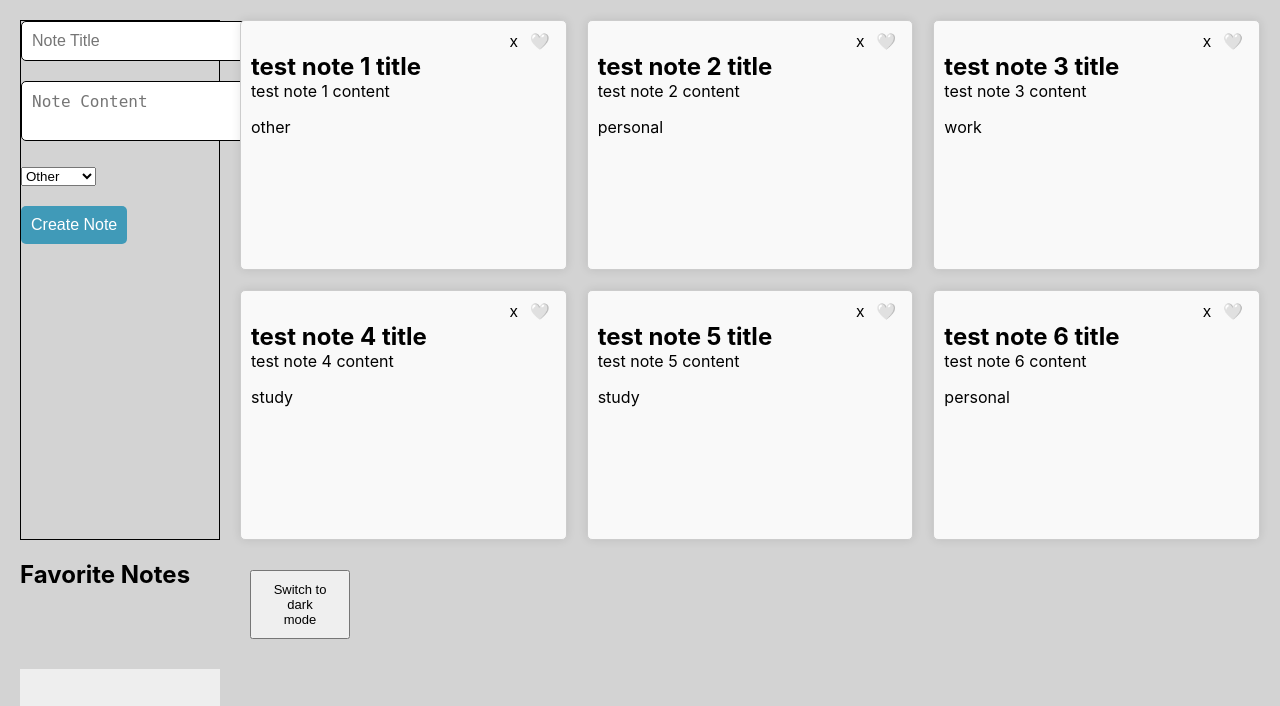
Test: Create StickyNote › deletes a note
The width and height of the screenshot is (1280, 706).
Type "Want to delete" into the field with placeholder "Note Title" at {"x": 136, "y": 41}, box x1=21 y1=21 x2=250 y2=61
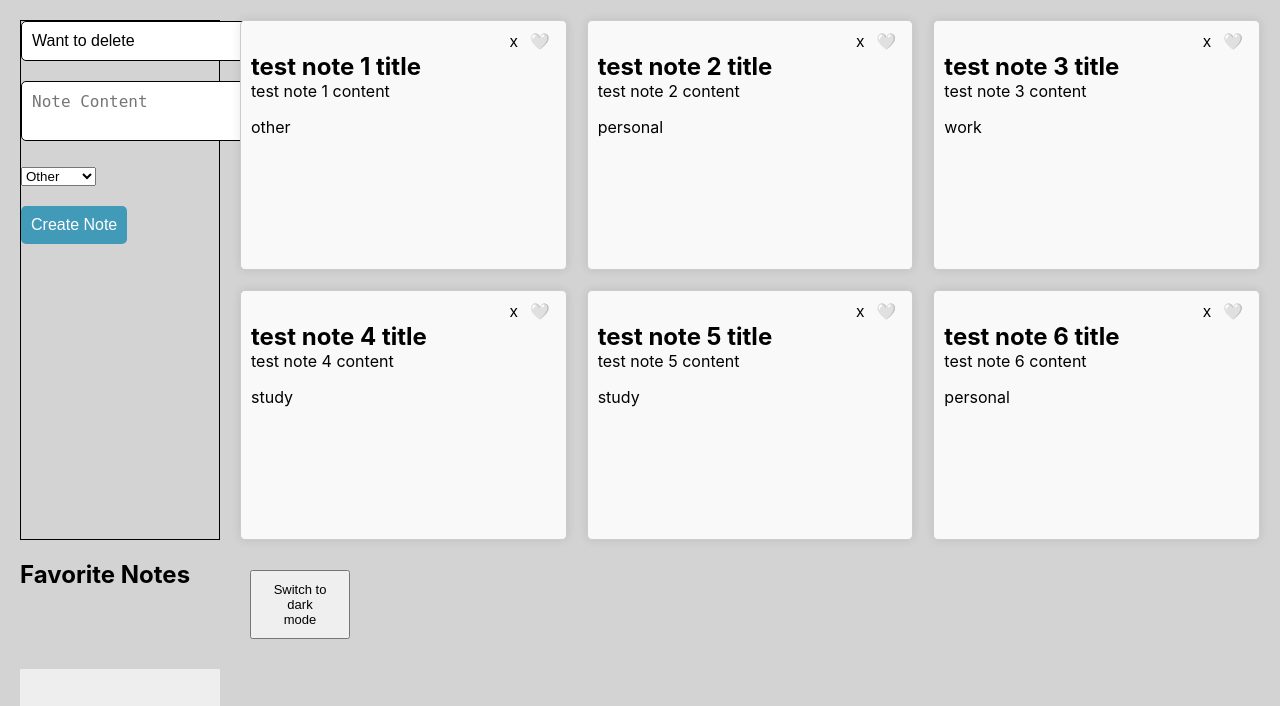
Type "Note is deleted" into the text box with placeholder "Note Content" at {"x": 140, "y": 111}, box x1=21 y1=81 x2=258 y2=141
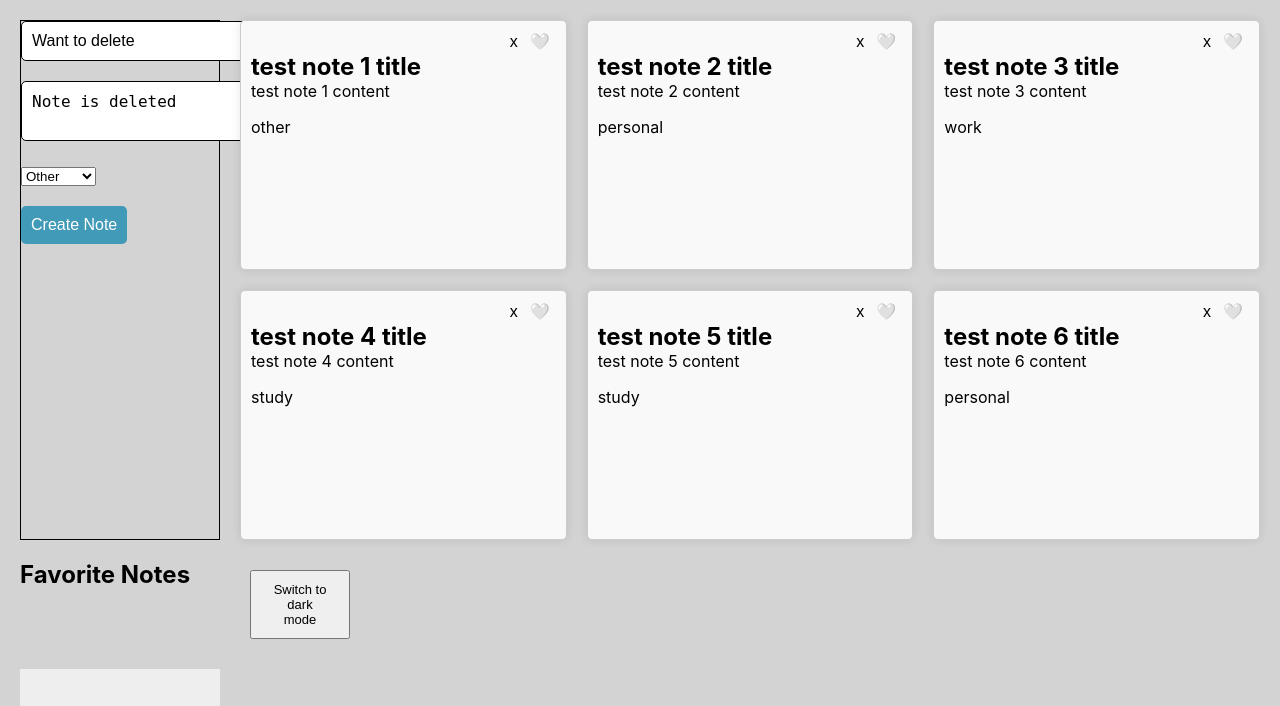
Click the button "Create Note" at {"x": 74, "y": 225}, box x1=21 y1=206 x2=127 y2=244
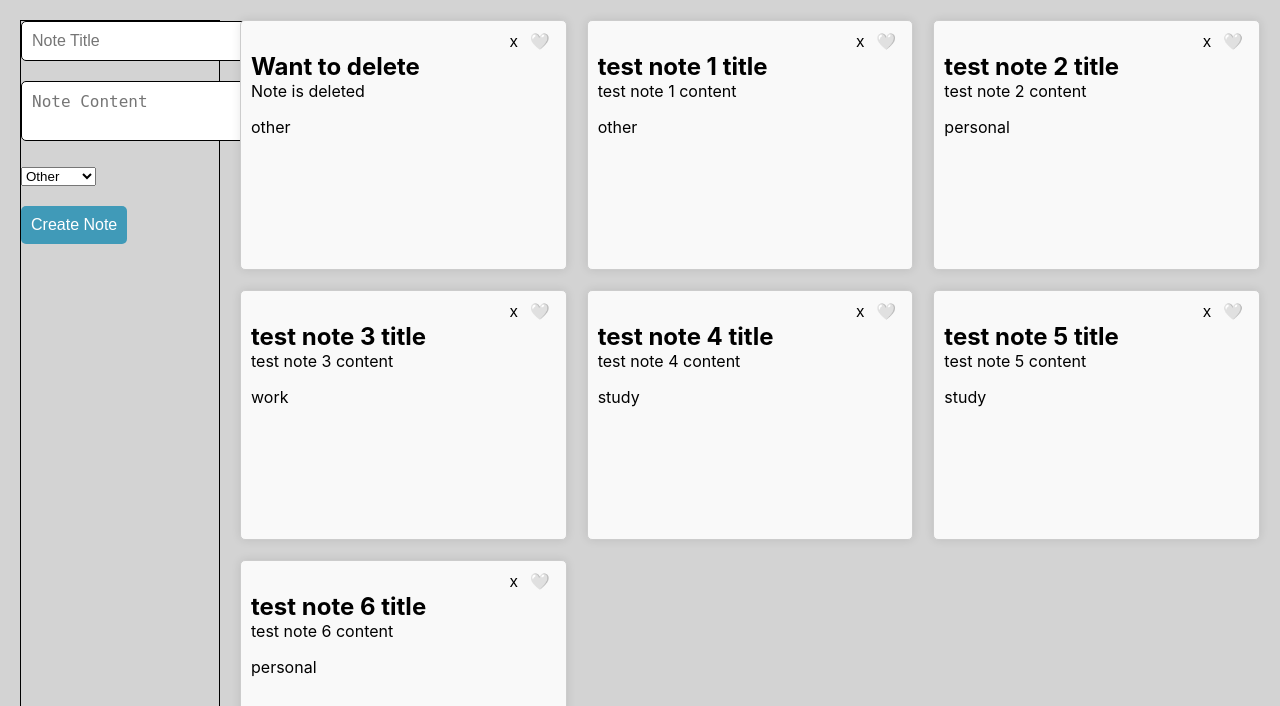
Check: the heading "Want to delete" is shown, box x1=251 y1=52 x2=420 y2=81
Click the button with test id "delete-note-7" at {"x": 514, "y": 42}, box x1=504 y1=31 x2=524 y2=52
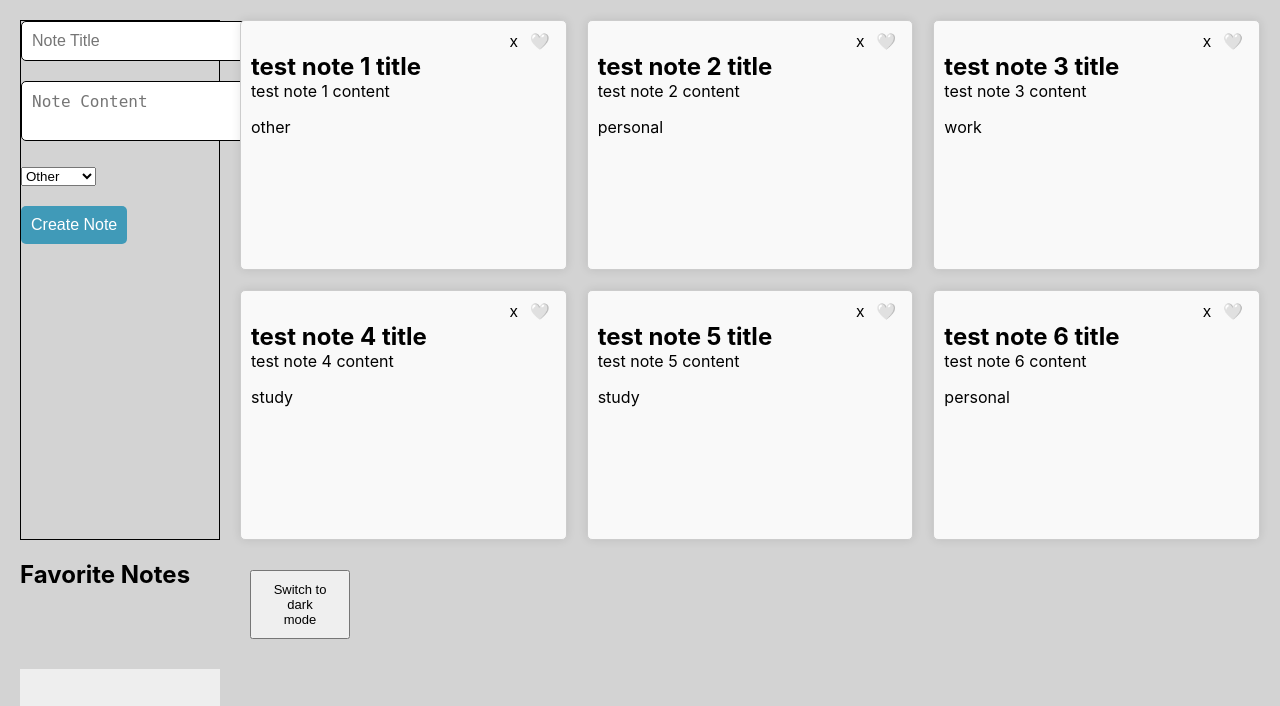
Check: the heading "Want to delete" is gone
